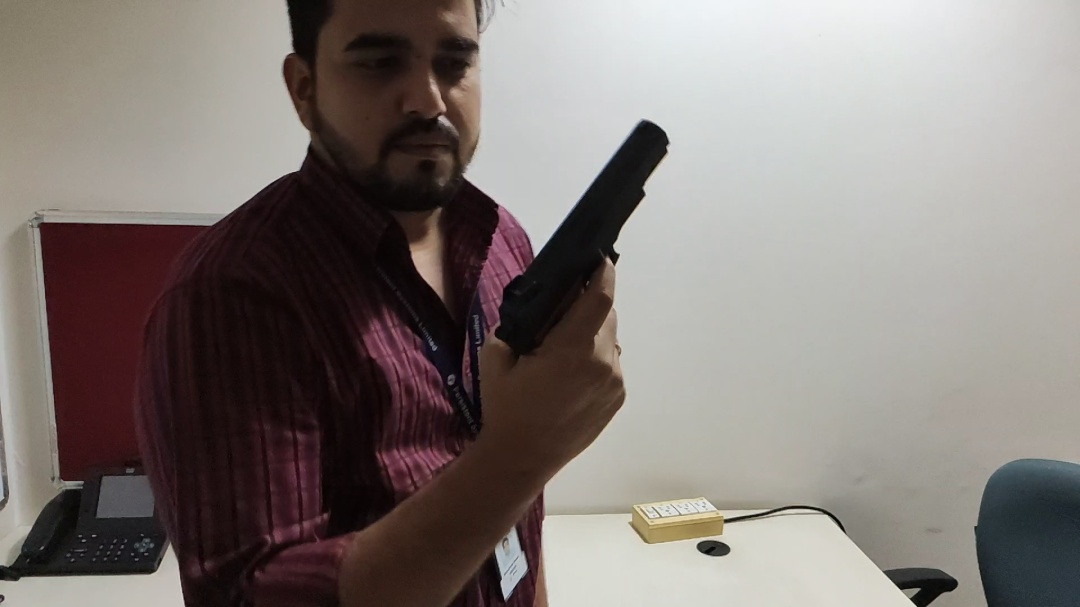gun: (485, 109, 721, 385)
